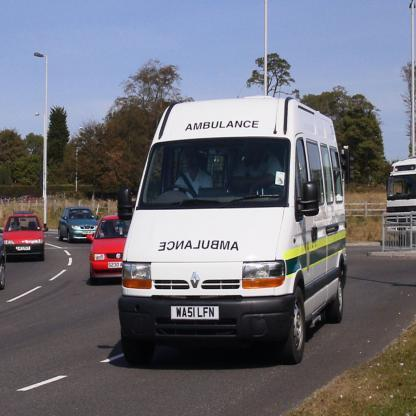Ambulance - v1 Ambulance last generate: (118, 86, 344, 359)
